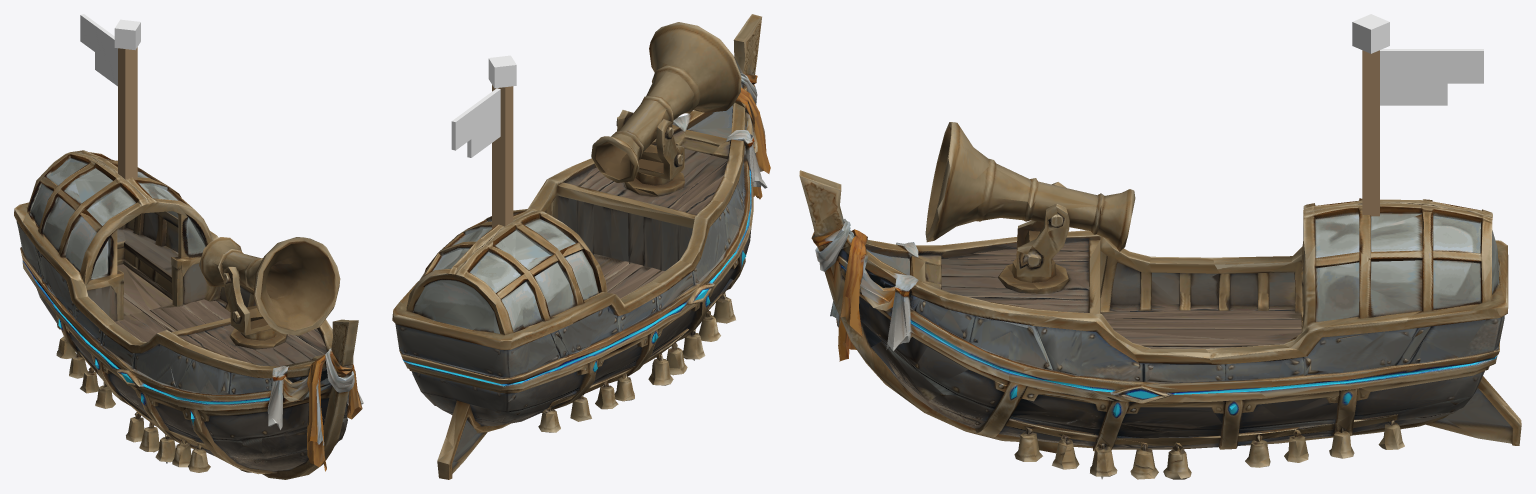
The model's file is dune_sandskiff.glb.
3 views of the same model, side by side, from view 1: azimuth 30°, elevation 25°; view 2: azimuth 150°, elevation 25°; view 3: azimuth 270°, elevation 25° (orthographic). The views are drawn at different scales.
Visible parts, largest first — view 1: dune_sandskiff, Team_pennant; view 2: dune_sandskiff, Team_pennant; view 3: dune_sandskiff, Team_pennant.
Boxes of the visible parts, <box> form: dune_sandskiff: <box>14,150,363,479</box>; Team_pennant: <box>80,14,140,179</box>; dune_sandskiff: <box>392,14,770,479</box>; Team_pennant: <box>451,55,516,228</box>; dune_sandskiff: <box>799,122,1521,479</box>; Team_pennant: <box>1352,14,1483,216</box>.
Bounding box in the file's own units: 0.3423 × 0.6421 × 0.9795.
3 materials, 1 textured.
